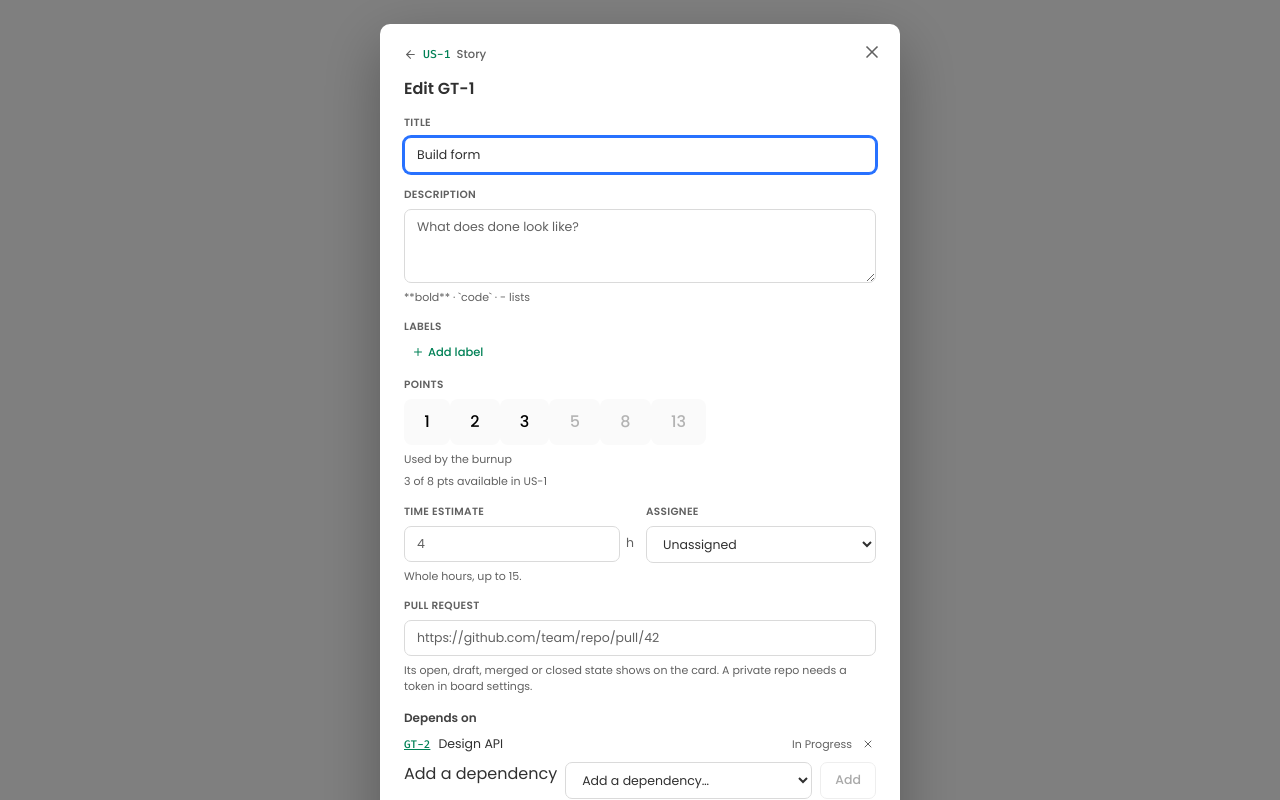
Test case: TaskEditorModal dependencies › adds the picked dependency and resets the picker
The width and height of the screenshot is (1280, 800).
Expected: the button "Add" is disabled, x1=820 y1=762 x2=876 y2=799
Select "GT-5 · Add tests" in the dropdown labelled "Add a dependency" at (689,780), box x1=565 y1=762 x2=812 y2=799
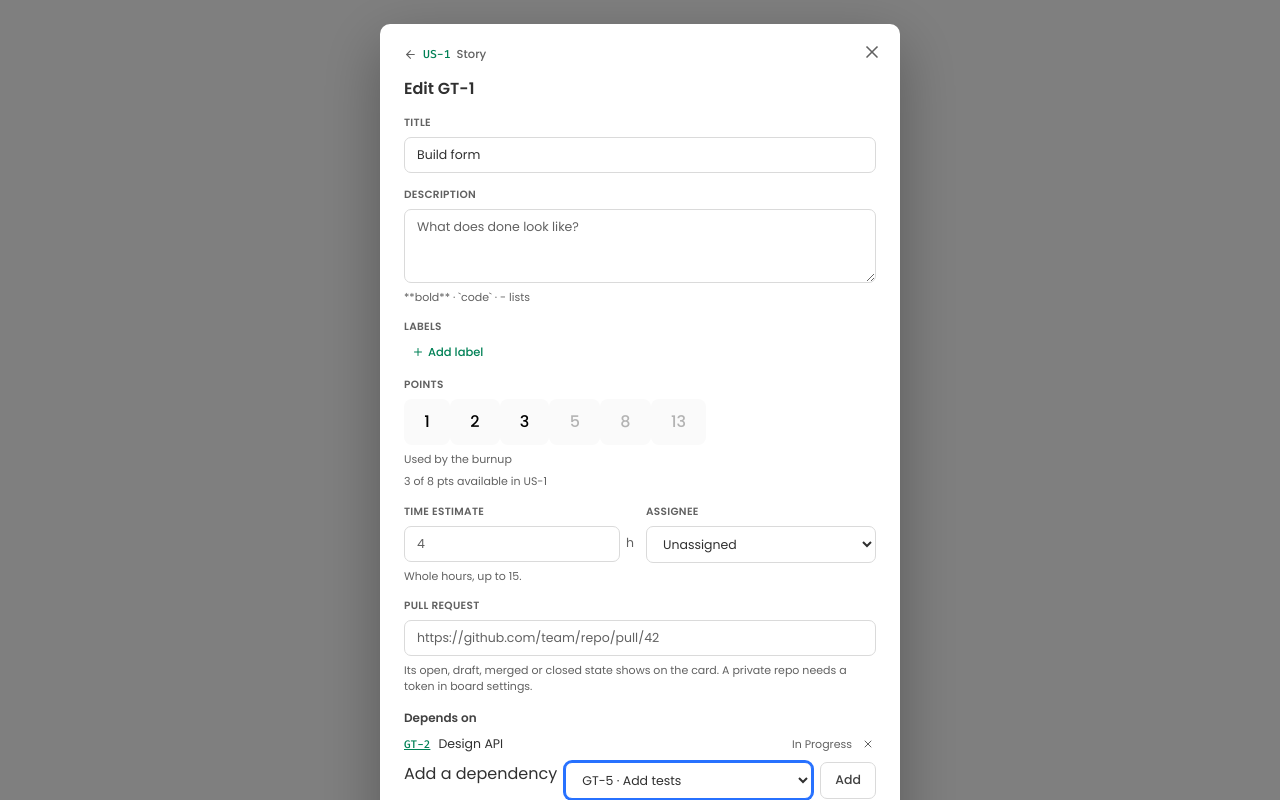
Click the button "Add" at (848,780), box x1=820 y1=762 x2=876 y2=799
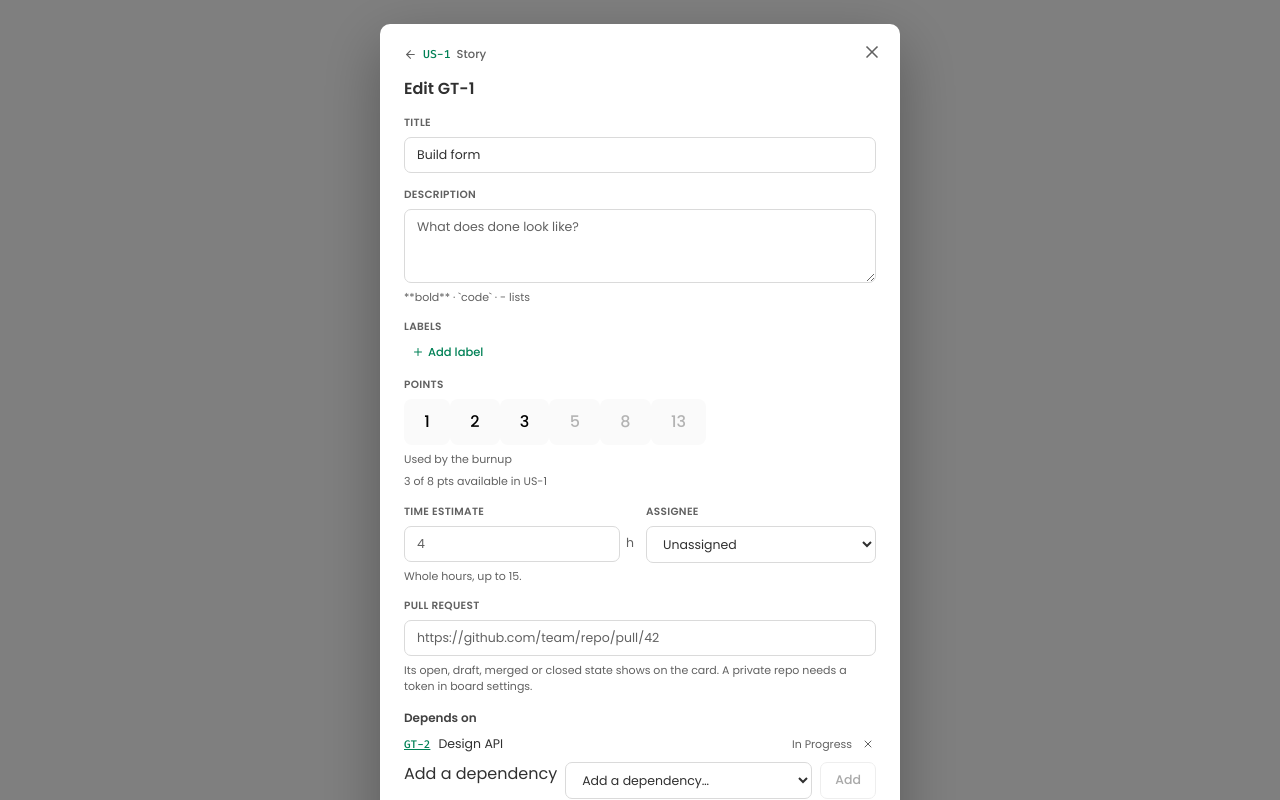
Expected: the button "Add" is disabled, x1=820 y1=762 x2=876 y2=799
